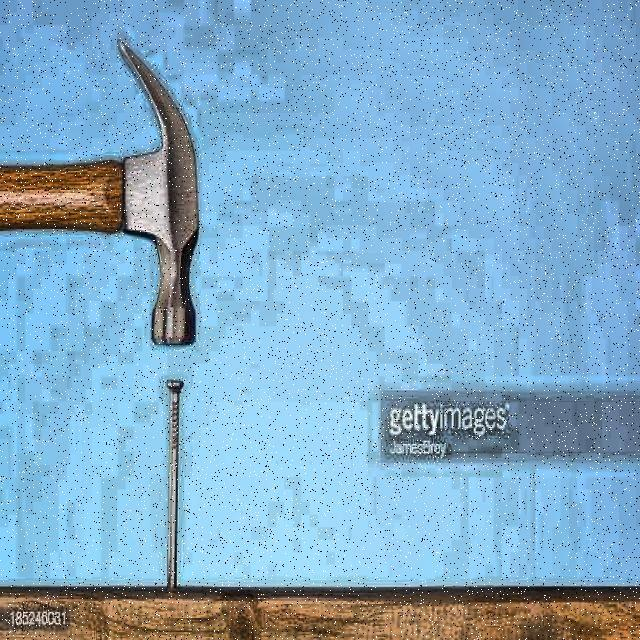hammer: (0, 36, 200, 348)
